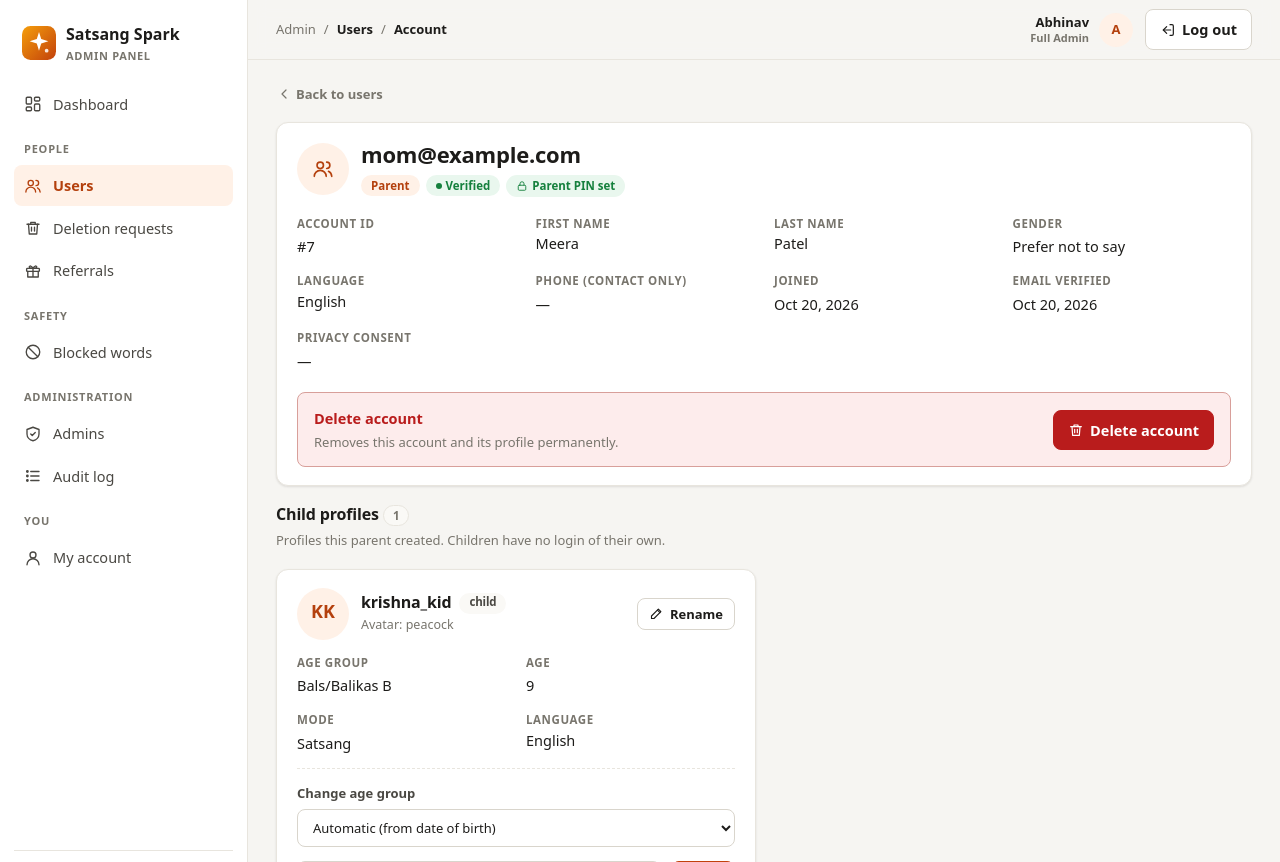
rename popup: validates, cancels with Escape, and says the server is not connected yet
The width and height of the screenshot is (1280, 862).
Check: the heading "mom@example.com" is shown, box [361,139,581,169]
Click the button with aria-label "Rename krishna_kid" at (686, 614), box [637,598,735,630]
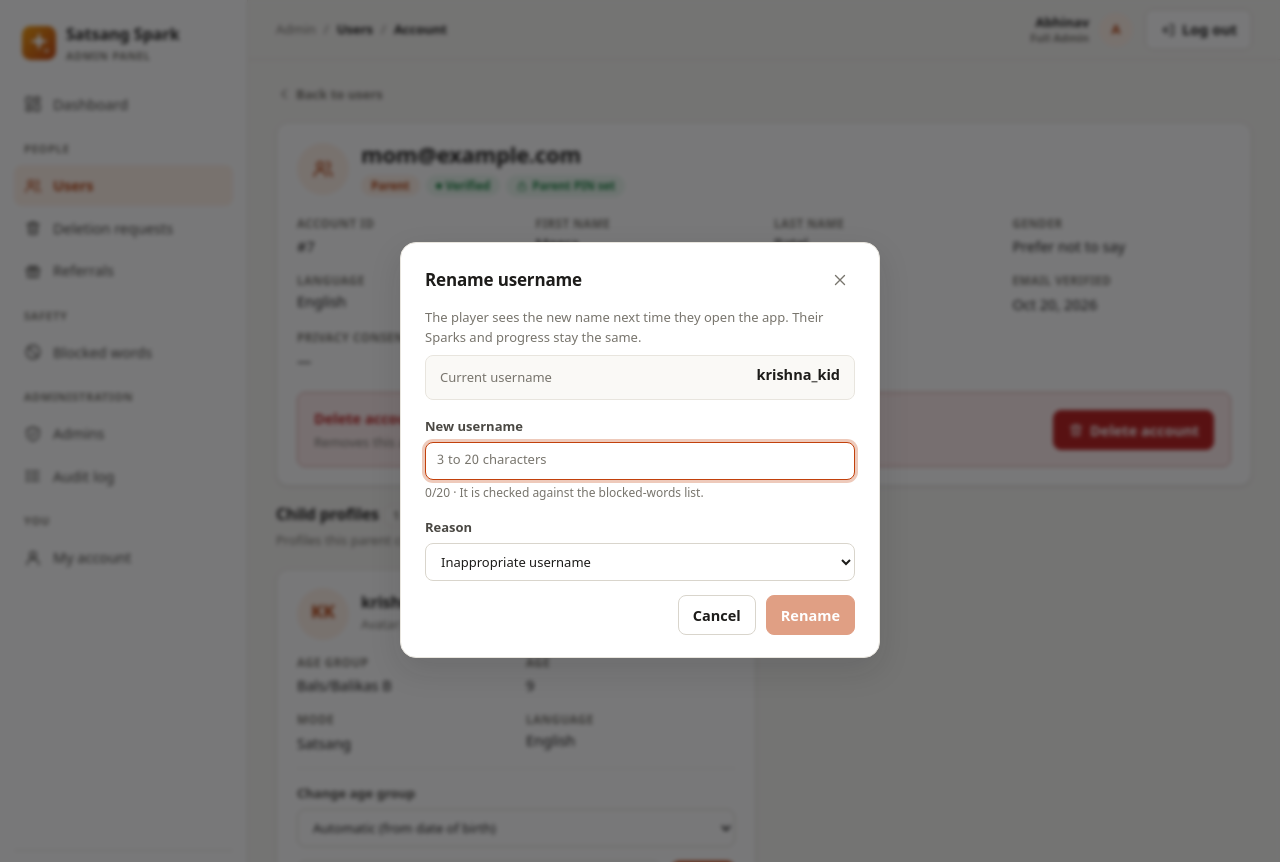
Check: the button "Rename" is disabled, box [766,595,855,635]
Type "Krishna_Kid" into the field labelled "New username" at (640, 461), box [425,442,855,480]
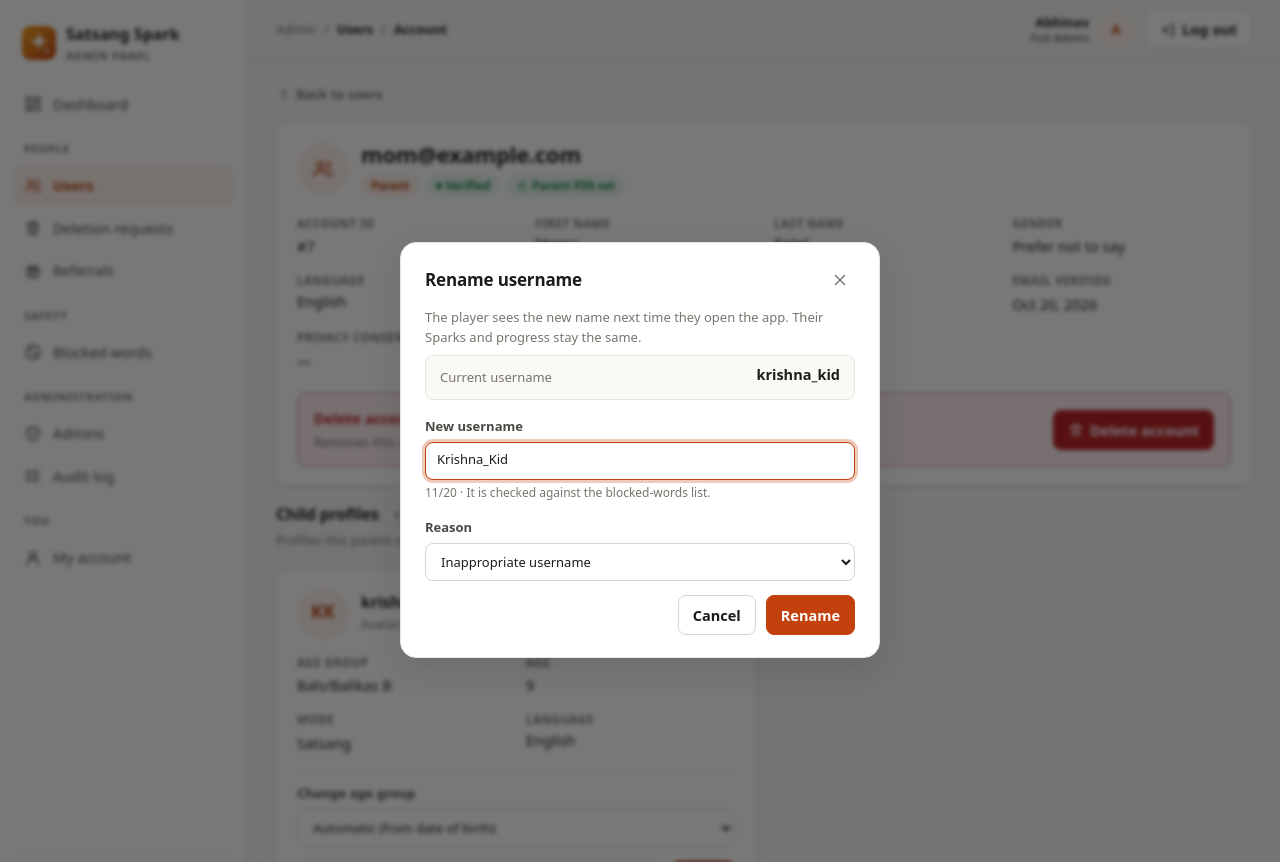
Click the button "Rename" at (810, 615), box [766,595,855,635]
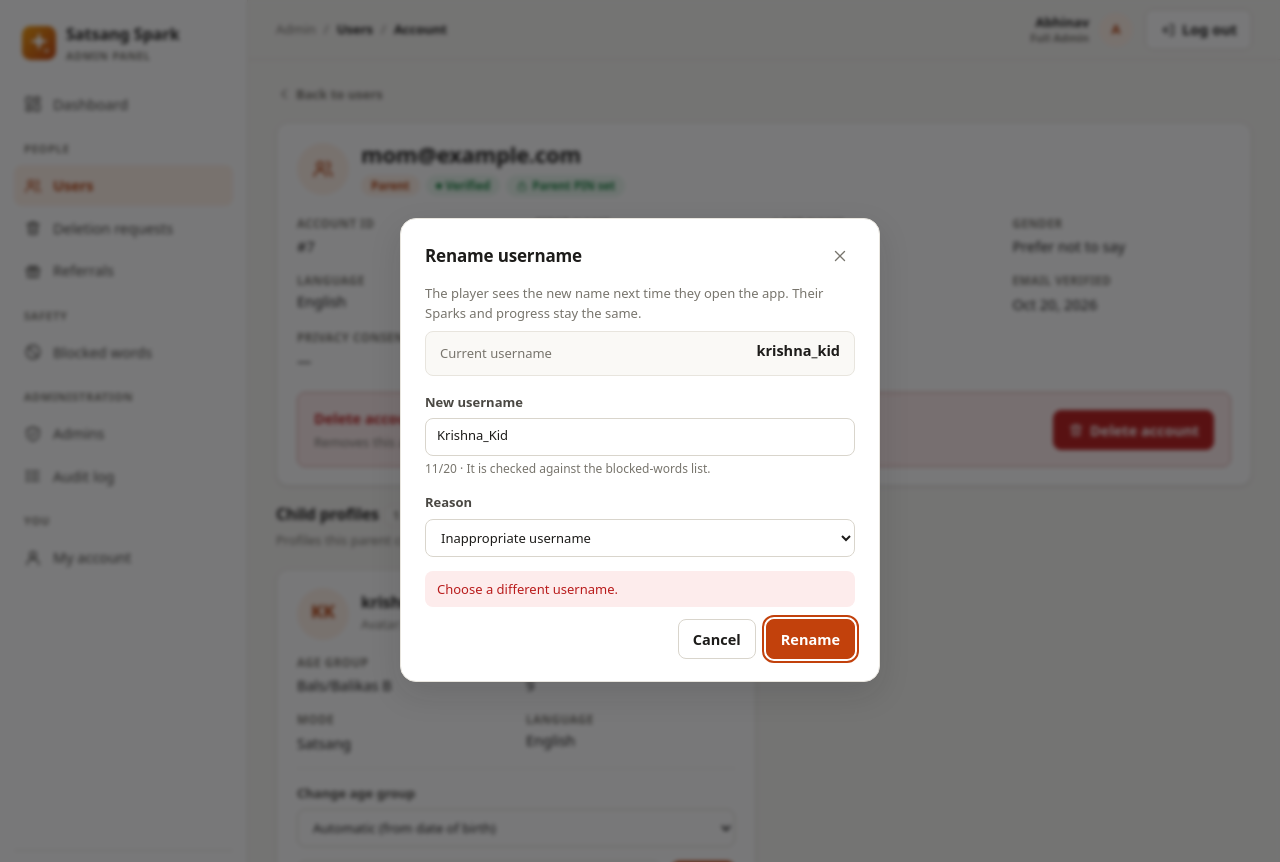
Check: the message shows "different username", box [437,580,618,598]
Replace the text in the field labelled "New username" with "shyam_seva" at (640, 437), box [425,418,855,456]
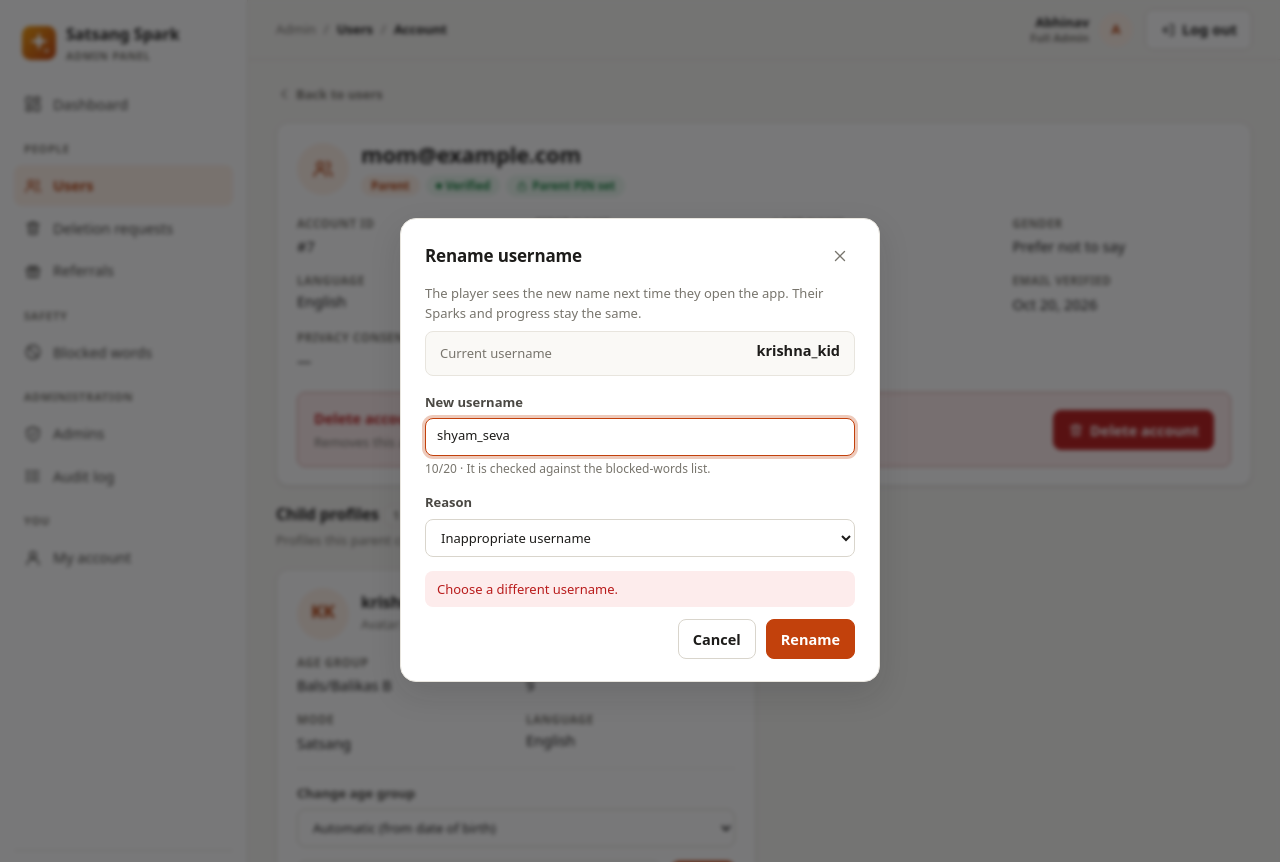
Click the button "Rename" at (810, 639), box [766,619,855,659]
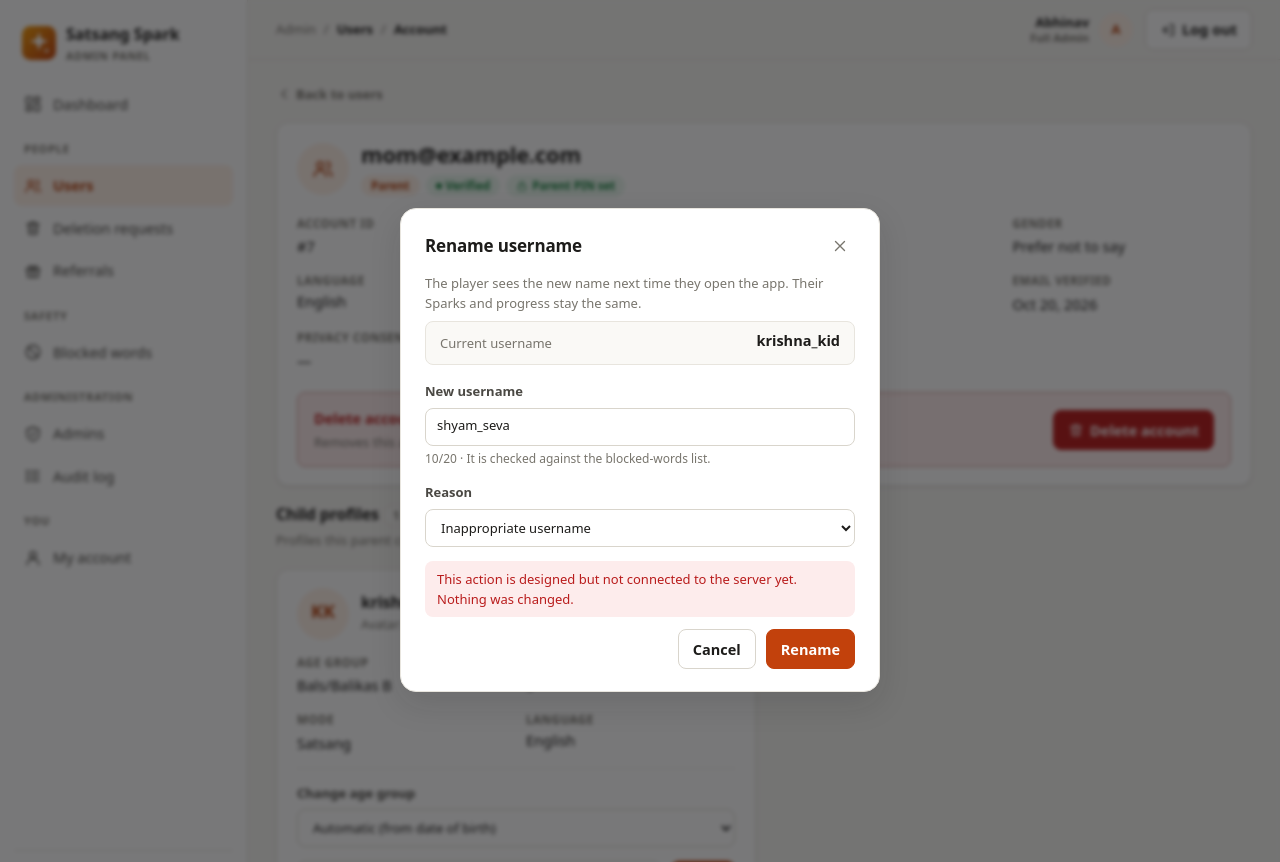
Check: the message shows "not connected to the server yet", box [437,570,797,608]
Press Escape
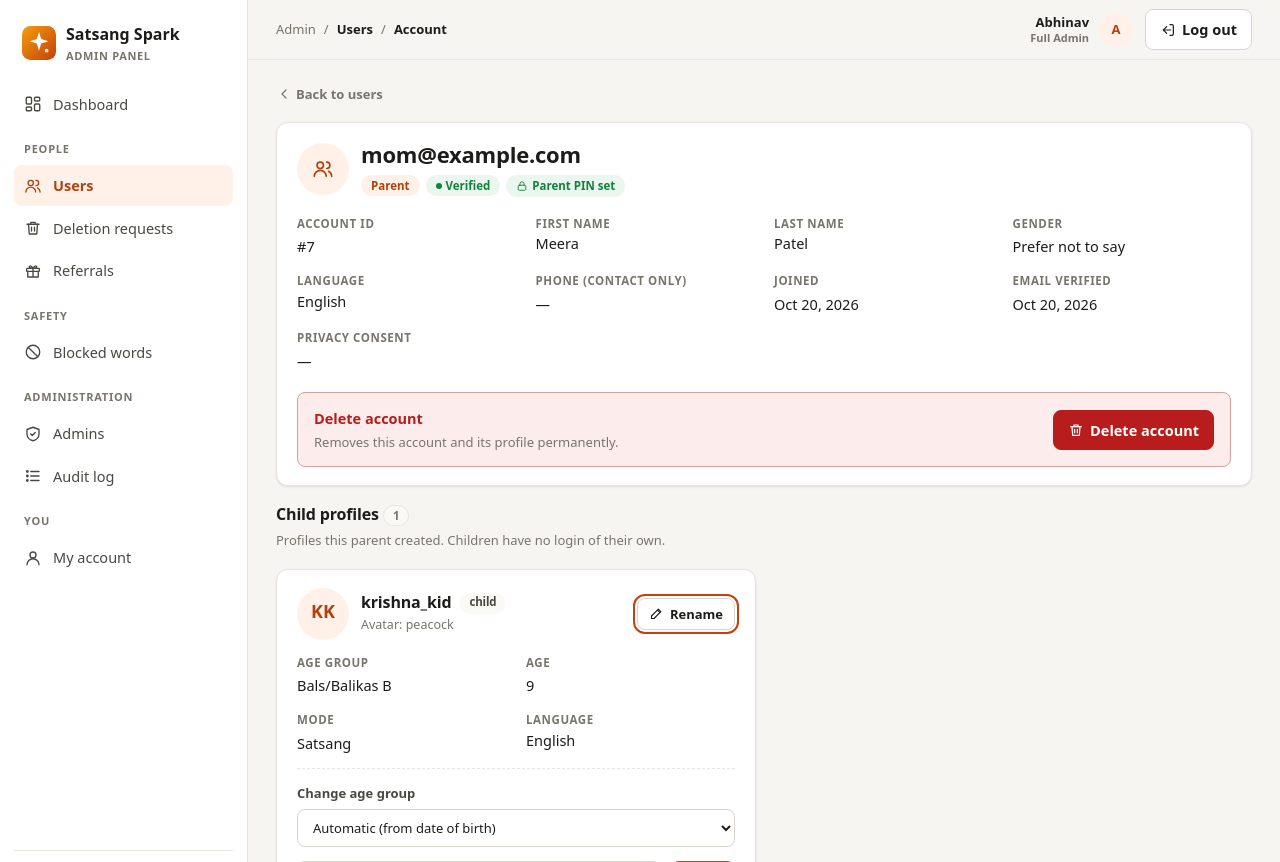
Check: the dialog is gone
